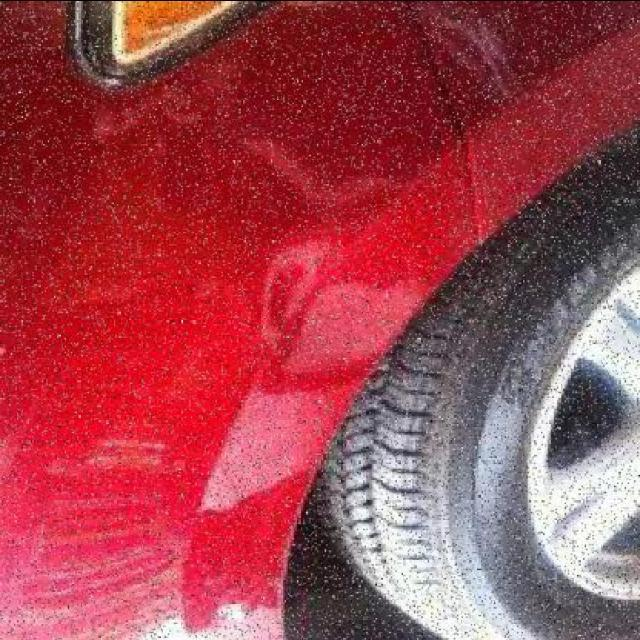fender-dent: (3, 63, 495, 640)
